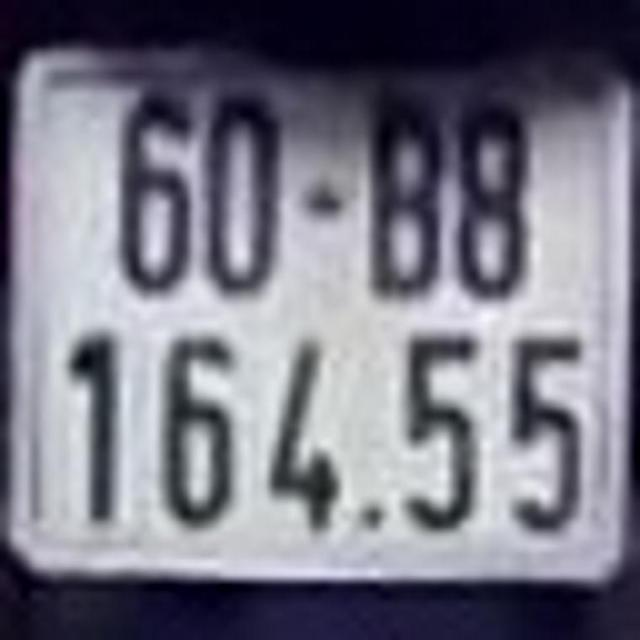0: (204, 96, 276, 290)
1: (72, 340, 116, 522)
4: (272, 338, 340, 528)
5: (513, 336, 578, 532), (406, 330, 470, 528)
6: (125, 100, 188, 292), (167, 343, 232, 520)
8: (460, 108, 518, 298)
B: (374, 100, 437, 292)
